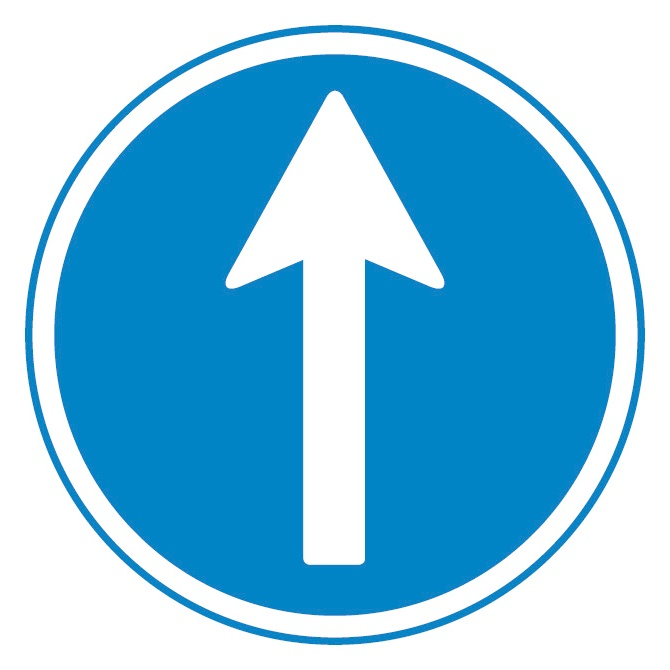Direction_sign: (23, 26, 650, 645)
